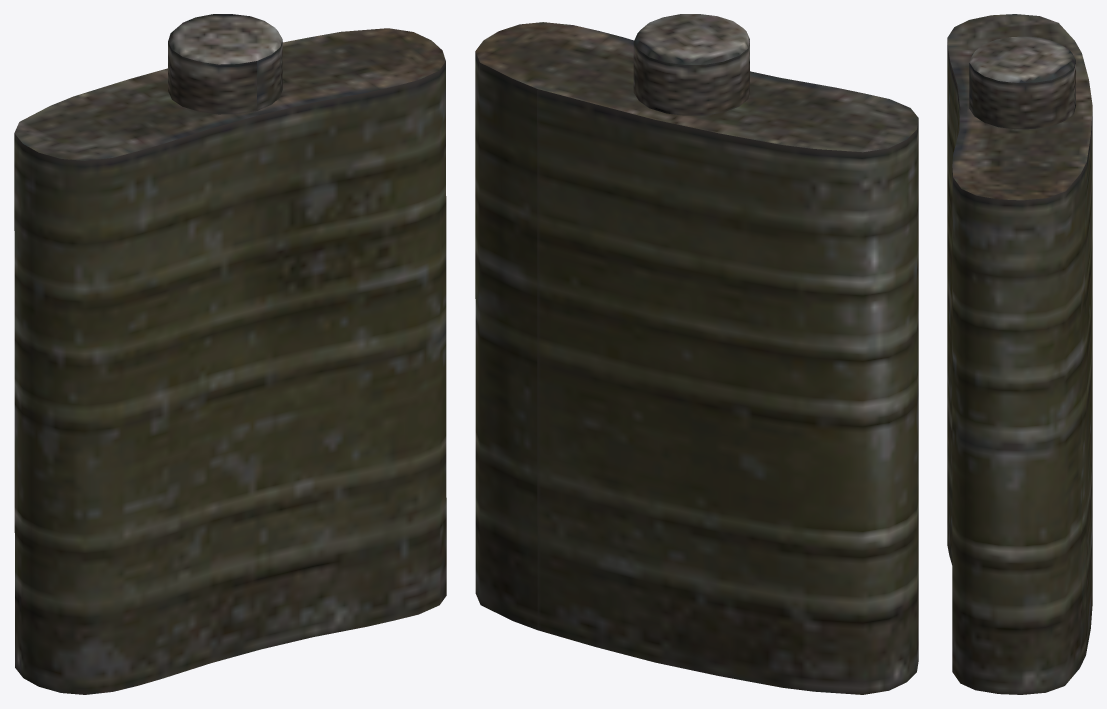
Rendered from flyashka.obj.
The picture shows the model from 3 angles, left to right: view 1: azimuth 30°, elevation 25°; view 2: azimuth 150°, elevation 25°; view 3: azimuth 270°, elevation 25°; orthographic projection. The views are drawn at different scales.
Visible parts, largest first — view 1: wpn_atach; view 2: wpn_atach; view 3: wpn_atach.
Part boxes in pixels (x1=…): wpn_atach: x1=14, y1=14, x2=446, y2=694; wpn_atach: x1=475, y1=14, x2=918, y2=694; wpn_atach: x1=947, y1=14, x2=1092, y2=694.
Bounding box in the file's own units: 0.1614 × 0.2199 × 0.0533.
Materials: 1 (1 with a texture image).
